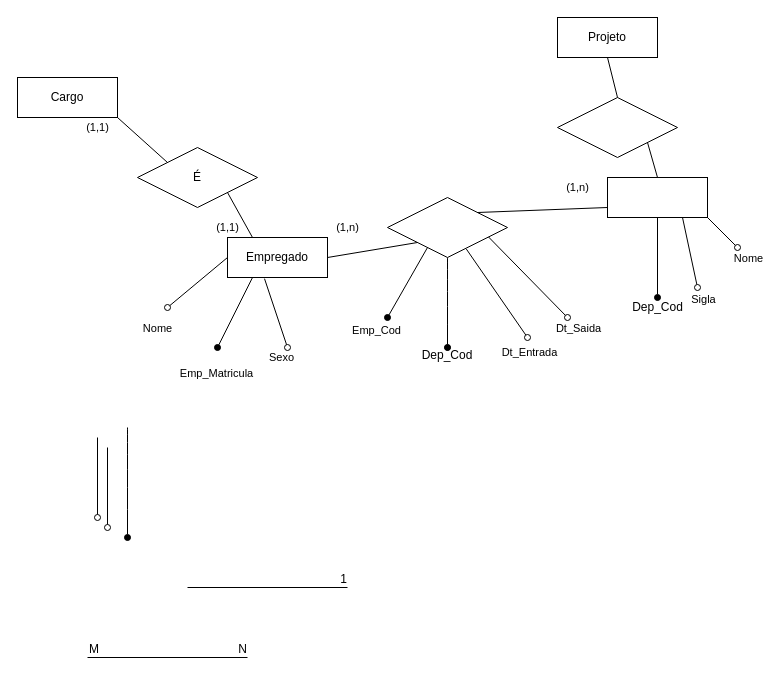
Image size: 780x676. Some labels were removed from this diagram. Each missing label, with the centre of its shape:
Departamento: the point at 657,197
Executa: the point at 617,127
Pertence: the point at 447,227
